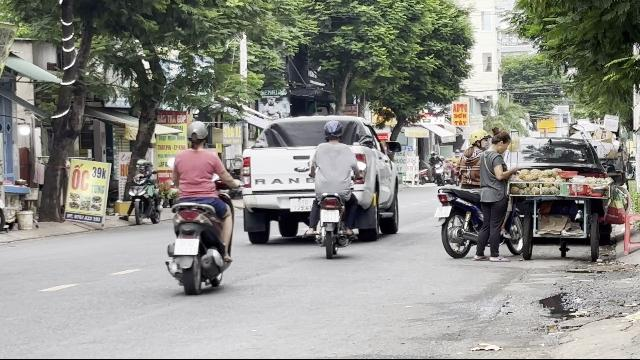helmet: (185, 120, 209, 148), (323, 120, 345, 142), (467, 128, 489, 150)
licenseplate: (174, 240, 198, 255), (320, 209, 338, 222), (434, 207, 452, 218)
motorcyclist: (162, 119, 238, 292), (306, 120, 360, 256)
